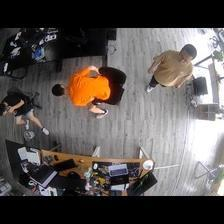normal: (53, 61, 114, 123), (144, 41, 199, 94), (1, 88, 49, 143)
